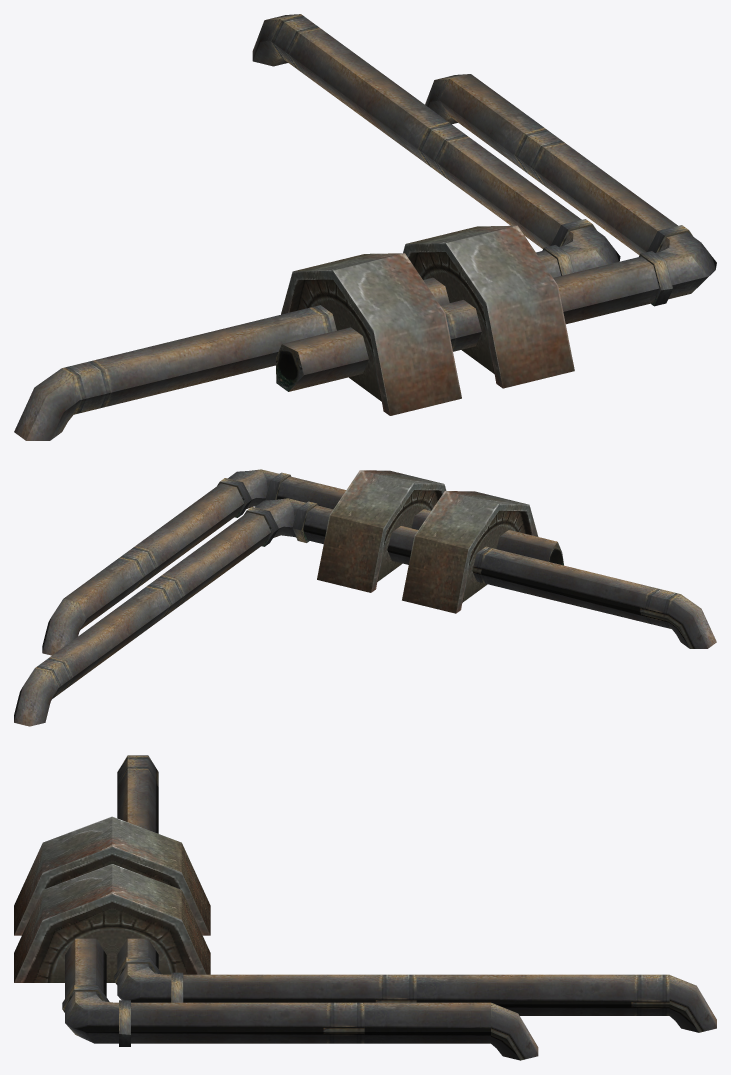
The model's file is yw_huxiaoshamo_tieguan01.FBX.
3 views of the same model, one above another, from view 1: azimuth 30°, elevation 25°; view 2: azimuth 150°, elevation 25°; view 3: azimuth 270°, elevation 25° (orthographic). The views are drawn at different scales.
Visible parts, largest first — view 1: yw_huxiaoshamo_tieguan01; view 2: yw_huxiaoshamo_tieguan01; view 3: yw_huxiaoshamo_tieguan01.
Part boxes in pixels (box(x1,y1,x2,y2)): yw_huxiaoshamo_tieguan01: box(14, 14, 716, 440); yw_huxiaoshamo_tieguan01: box(14, 469, 716, 726); yw_huxiaoshamo_tieguan01: box(14, 755, 716, 1060).
Bounding box in the file's own units: 674 × 99.99 × 712.
